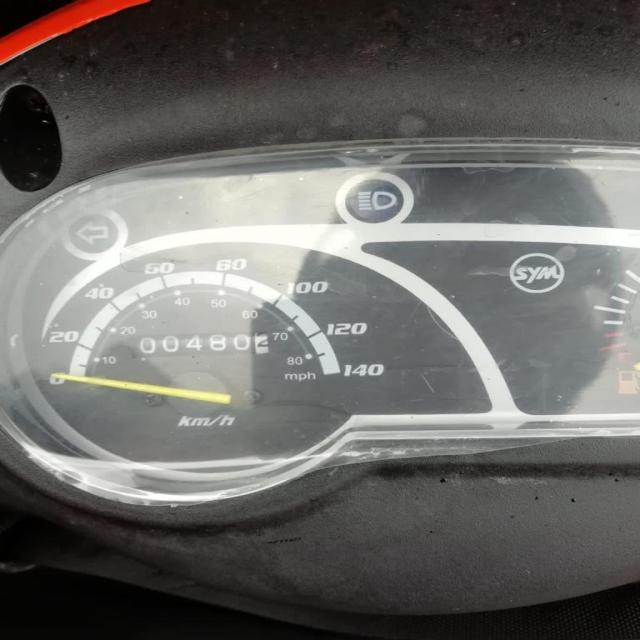odometer: (122, 330, 272, 360)
